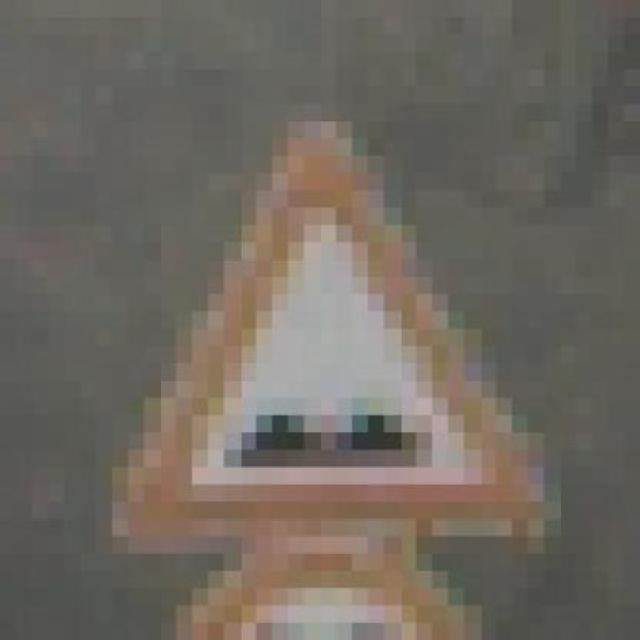Uneven Road: (95, 86, 560, 554)
